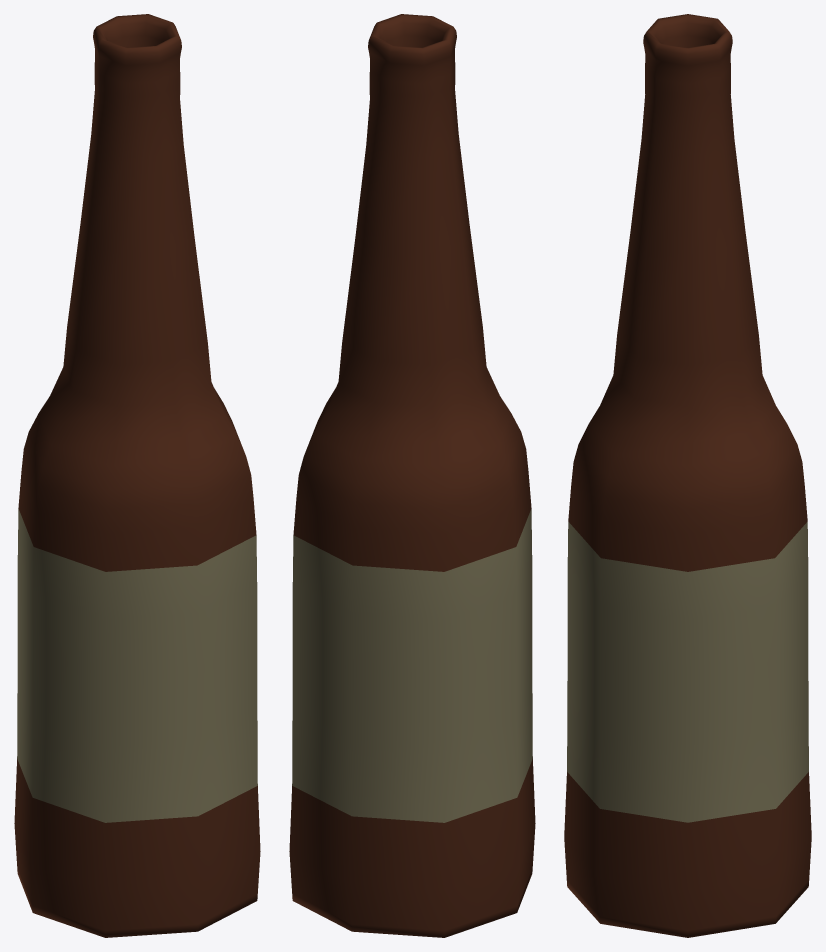
Rendered from beer_bottle.glb.
3 renders of one model, left to right at view 1: azimuth 30°, elevation 25°; view 2: azimuth 150°, elevation 25°; view 3: azimuth 270°, elevation 25°, orthographic.
Parts seen in each view (by area): view 1: BeerBottle; view 2: BeerBottle; view 3: BeerBottle.
Boxes of the visible parts, bbox=[...] form: BeerBottle: bbox=[14, 14, 260, 937]; BeerBottle: bbox=[289, 14, 535, 937]; BeerBottle: bbox=[564, 14, 811, 937].
Size of the model in its own units: 0.085 by 0.3264 by 0.085.
